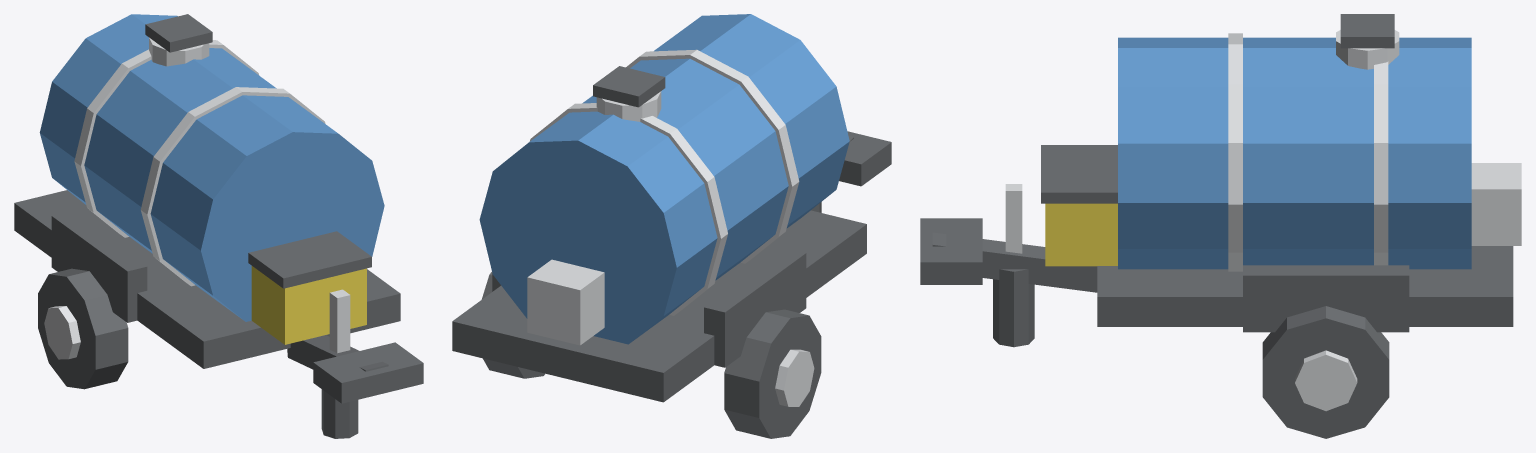
The model's file is recycling-and-waste-transfer-yard-recycling-and-waste--dcd54e06__34933.glb.
The picture shows the model from 3 angles, left to right: view 1: azimuth 30°, elevation 25°; view 2: azimuth 150°, elevation 25°; view 3: azimuth 270°, elevation 25°; orthographic projection. The views are drawn at different scales.
Parts seen in each view (by area): view 1: recycling-and-waste-transfer-yard-water-bowser; view 2: recycling-and-waste-transfer-yard-water-bowser; view 3: recycling-and-waste-transfer-yard-water-bowser.
Part boxes in pixels (x1,y1,x2,y2): recycling-and-waste-transfer-yard-water-bowser: [14, 14, 423, 438]; recycling-and-waste-transfer-yard-water-bowser: [452, 14, 891, 438]; recycling-and-waste-transfer-yard-water-bowser: [920, 14, 1521, 438].
Size of the model in its own units: 1.7 by 1.82 by 2.89.
